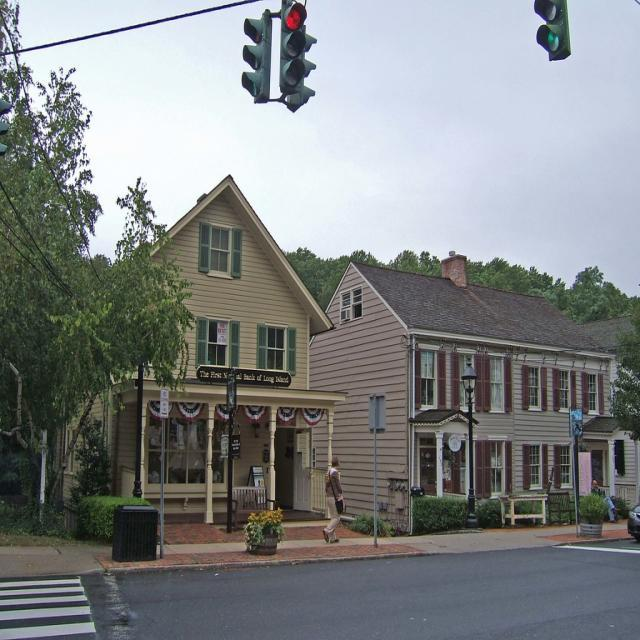traffic light: (278, 3, 306, 91), (241, 18, 268, 100)
